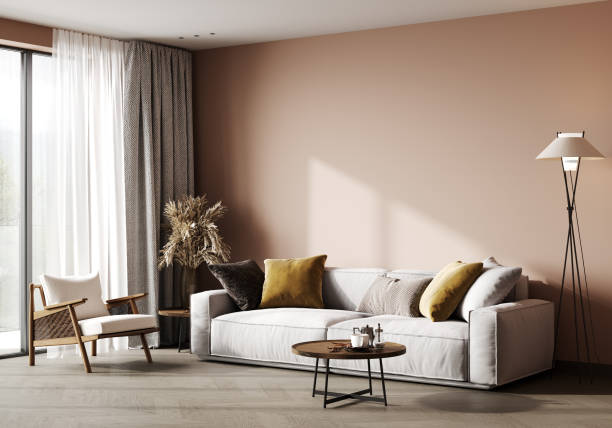chair: (22, 271, 162, 374)
floor lamp: (534, 129, 606, 391)
flower vase: (156, 186, 230, 308)
sofa: (185, 252, 558, 392)
table: (288, 335, 409, 411)
